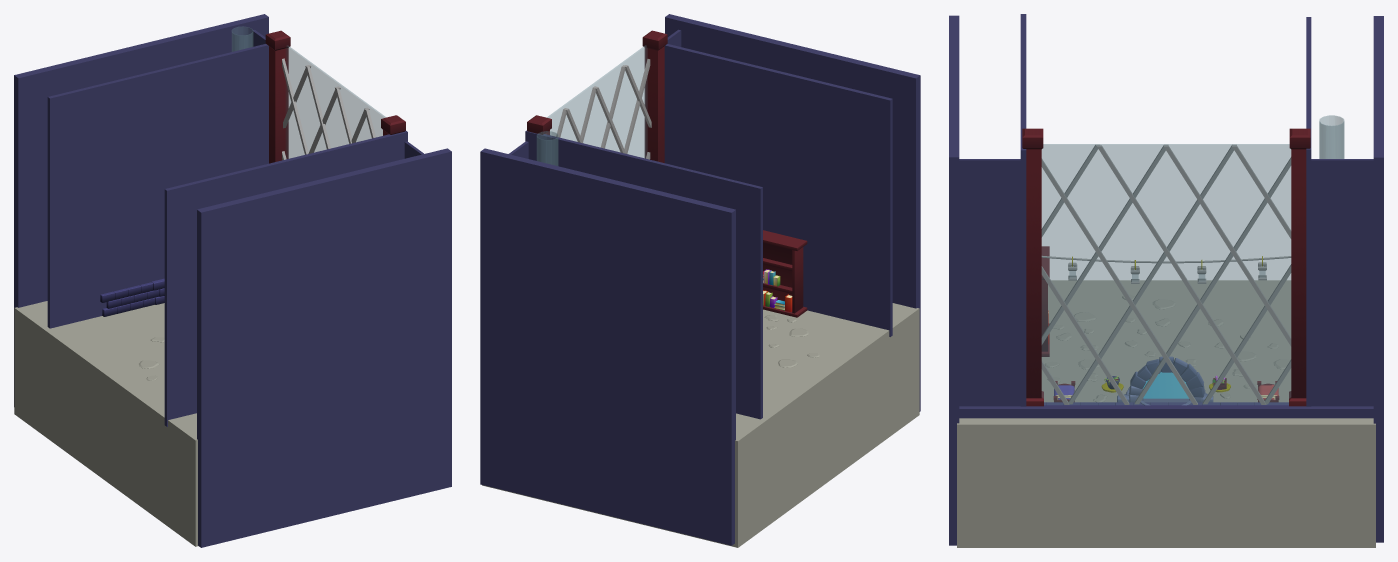
The model's file is LevelStructure_03.fbx.
3 renders of one model, left to right at view 1: azimuth 30°, elevation 25°; view 2: azimuth 150°, elevation 25°; view 3: azimuth 270°, elevation 25°, orthographic. The views are drawn at different scales.
Parts seen in each view (by area): view 1: RH_BackWall_GEO, LH_Healthy_Wall_GEO, Floor_GEO, LH_BackWall_GEO, RH_Healthy_Wall_GEO, F_GlassWall_GEO, LH_WoodenPole_GEO, F_RightAngleLead_GEO, LH_BrickWalls_GEO; view 2: LH_BackWall_GEO, RH_Healthy_Wall_GEO, Floor_GEO, RH_BackWall_GEO, LH_Healthy_Wall_GEO, F_GlassWall_GEO, RH_WoodenPole_GEO, F_RightAngleLead_GEO, polySurface500, polySurface499, CoinTube_GEO, polySurface496 (+1 smaller); view 3: Floor_GEO, F_GlassWall_GEO, F_LH_Wall_GEO, F_RH_Wall_GEO, F_RightAngleLead_GEO, F_Strip_GEO, RH_BackWall_GEO, LH_BackWall_GEO, RH_WoodenPole_GEO, LH_WoodenPole_GEO, RH_Healthy_Wall_GEO, LH_Healthy_Wall_GEO (+6 smaller).
Boxes of the visible parts, x1,y1,x2,y2 form: RH_BackWall_GEO: [197, 148, 451, 547]; LH_Healthy_Wall_GEO: [47, 44, 268, 328]; Floor_GEO: [14, 301, 197, 546]; LH_BackWall_GEO: [14, 14, 268, 406]; RH_Healthy_Wall_GEO: [164, 131, 407, 426]; F_GlassWall_GEO: [286, 46, 385, 158]; LH_WoodenPole_GEO: [265, 30, 290, 163]; F_RightAngleLead_GEO: [282, 58, 375, 160]; LH_BrickWalls_GEO: [100, 282, 159, 316]; LH_BackWall_GEO: [480, 148, 735, 545]; RH_Healthy_Wall_GEO: [664, 44, 892, 336]; Floor_GEO: [482, 303, 919, 547]; RH_BackWall_GEO: [665, 14, 920, 411]; LH_Healthy_Wall_GEO: [525, 130, 762, 419]; F_GlassWall_GEO: [547, 45, 647, 158]; RH_WoodenPole_GEO: [642, 30, 667, 162]; F_RightAngleLead_GEO: [556, 59, 651, 159]; polySurface500: [763, 243, 792, 301]; polySurface499: [792, 247, 803, 313]; CoinTube_GEO: [537, 131, 558, 165]; polySurface496: [763, 230, 807, 250]; Floor_GEO: [957, 280, 1375, 547]; F_GlassWall_GEO: [1042, 144, 1290, 404]; F_LH_Wall_GEO: [1311, 159, 1373, 406]; F_RH_Wall_GEO: [959, 159, 1020, 406]; F_RightAngleLead_GEO: [1041, 144, 1291, 404]; F_Strip_GEO: [959, 405, 1373, 418]; RH_BackWall_GEO: [949, 15, 959, 545]; LH_BackWall_GEO: [1373, 16, 1383, 542]; RH_WoodenPole_GEO: [1022, 128, 1043, 406]; LH_WoodenPole_GEO: [1289, 128, 1310, 406]; RH_Healthy_Wall_GEO: [1020, 14, 1026, 406]; LH_Healthy_Wall_GEO: [1306, 17, 1311, 406].
Size of the model in its own units: 31.79 by 41.18 by 40.33.
